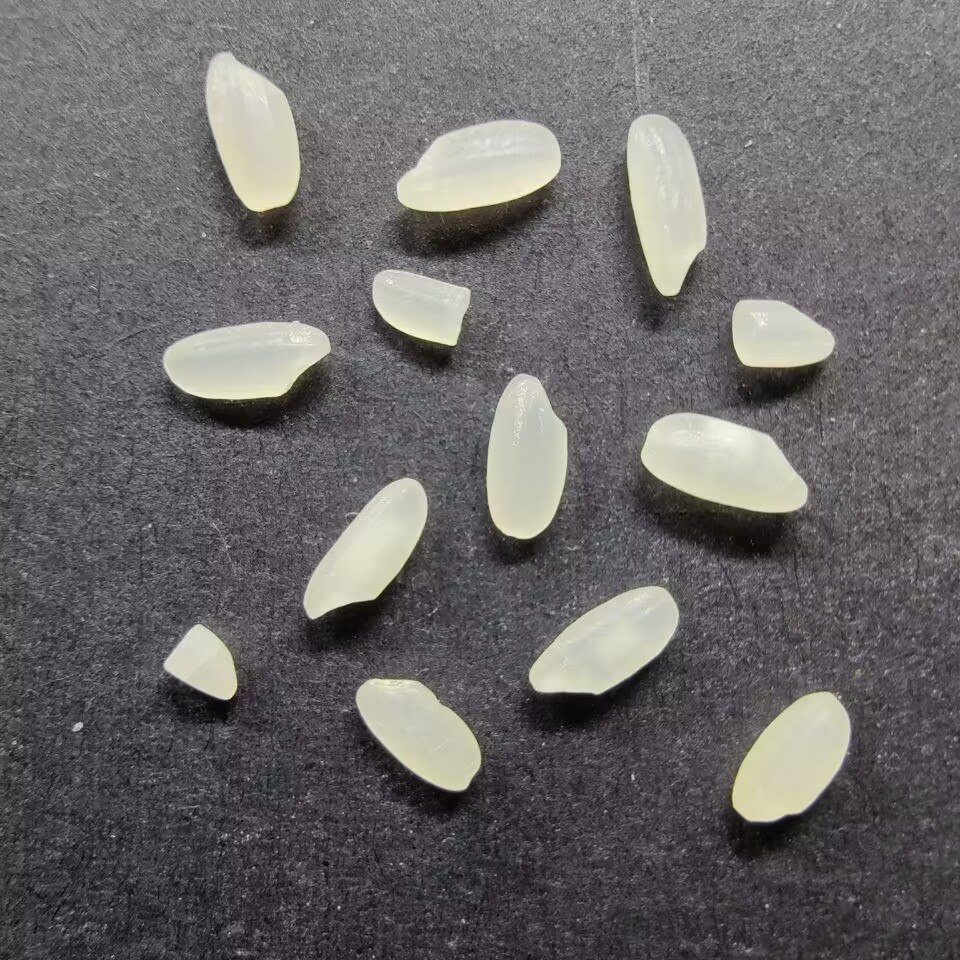broken: (371, 268, 472, 346), (730, 297, 838, 368), (161, 621, 239, 702)
rice: (300, 474, 429, 620), (525, 584, 682, 698), (639, 411, 810, 514), (731, 689, 854, 827), (202, 50, 302, 212), (395, 119, 561, 212), (626, 112, 709, 298), (354, 676, 484, 793), (484, 369, 569, 542), (161, 318, 331, 402)
